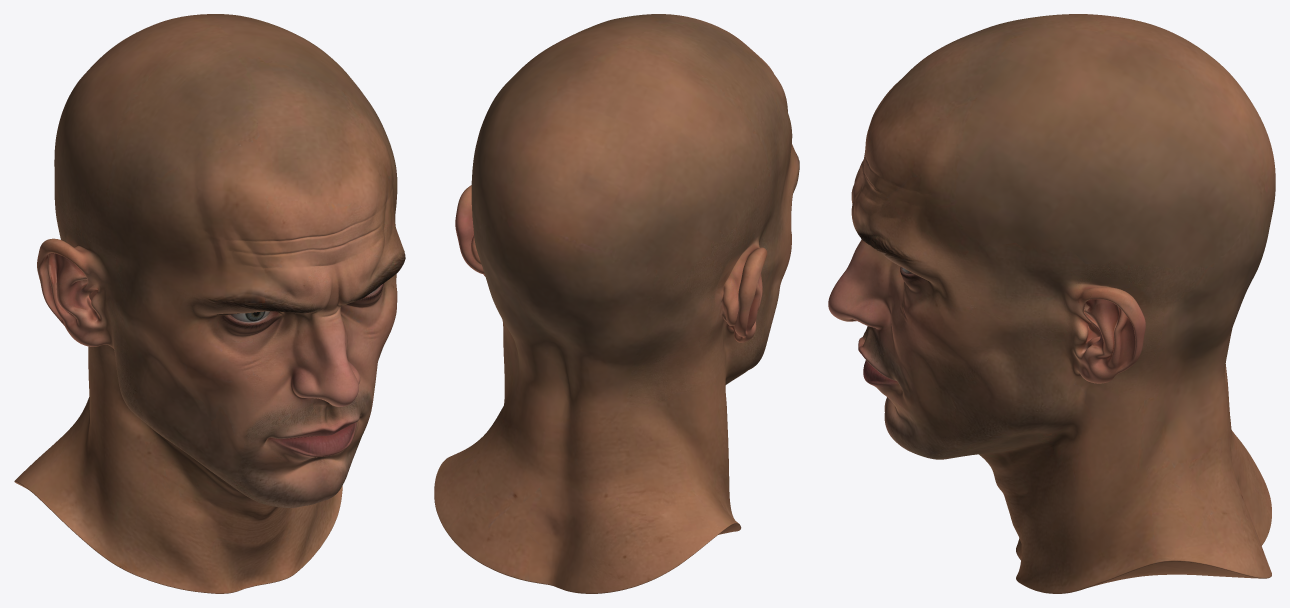
File: cabeca.glb
The picture shows the model from 3 angles, left to right: view 1: azimuth 30°, elevation 25°; view 2: azimuth 150°, elevation 25°; view 3: azimuth 270°, elevation 25°; orthographic projection. The views are drawn at different scales.
Bounding box in the file's own units: 1.2 × 1.9 × 1.43.
1 material, 1 textured.
